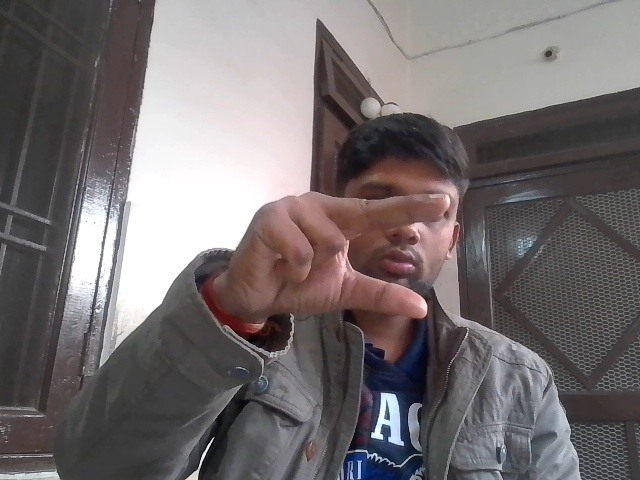No: (206, 165, 480, 345)
